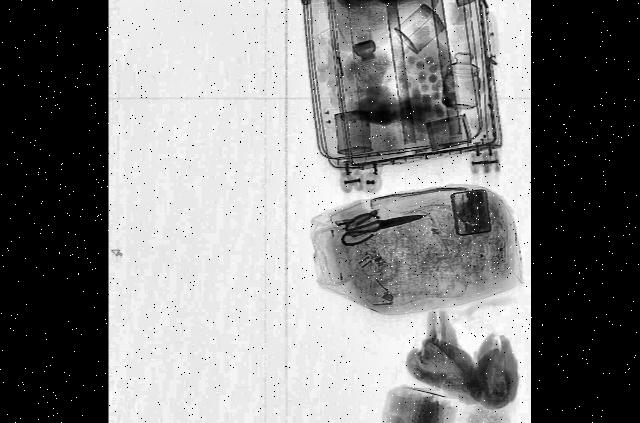Scissors: (338, 196, 425, 249)
